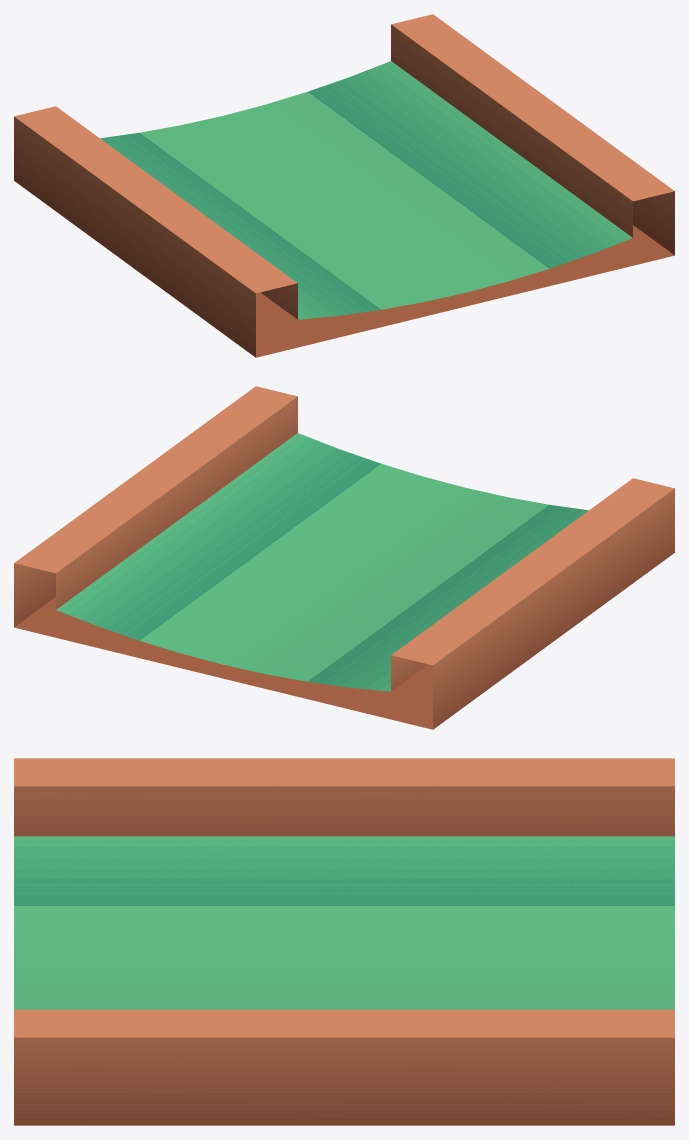
The model's file is spline-concave.glb.
3 views of the same model, one above another, from view 1: azimuth 30°, elevation 25°; view 2: azimuth 150°, elevation 25°; view 3: azimuth 270°, elevation 25° (orthographic). The views are drawn at different scales.
Parts seen in each view (by area): view 1: spline-concave; view 2: spline-concave; view 3: spline-concave.
Part boxes in pixels (x1,y1,x2,y2): spline-concave: (14,14,674,357); spline-concave: (14,386,674,729); spline-concave: (14,758,674,1125).
Size of the model in its own units: 0.9999 by 0.1467 by 0.9999.
1 material, 1 textured.
